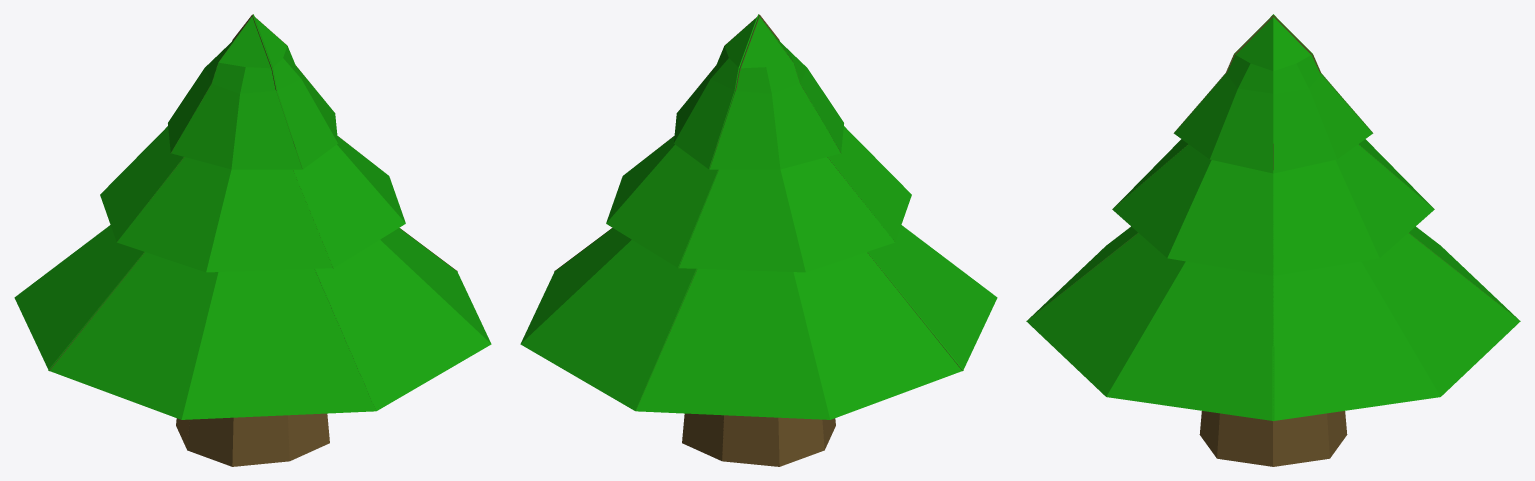
The model's file is tree_1.fbx.
3 renders of one model, left to right at view 1: azimuth 30°, elevation 25°; view 2: azimuth 150°, elevation 25°; view 3: azimuth 270°, elevation 25°, orthographic.
Visible parts, largest first — view 1: Куб; view 2: Куб; view 3: Куб.
Boxes of the visible parts, x1,y1,x2,y2 form: Куб: (14, 14, 491, 466); Куб: (520, 14, 997, 466); Куб: (1026, 14, 1520, 466).
Bounding box in the file's own units: 621 × 610 × 650.
